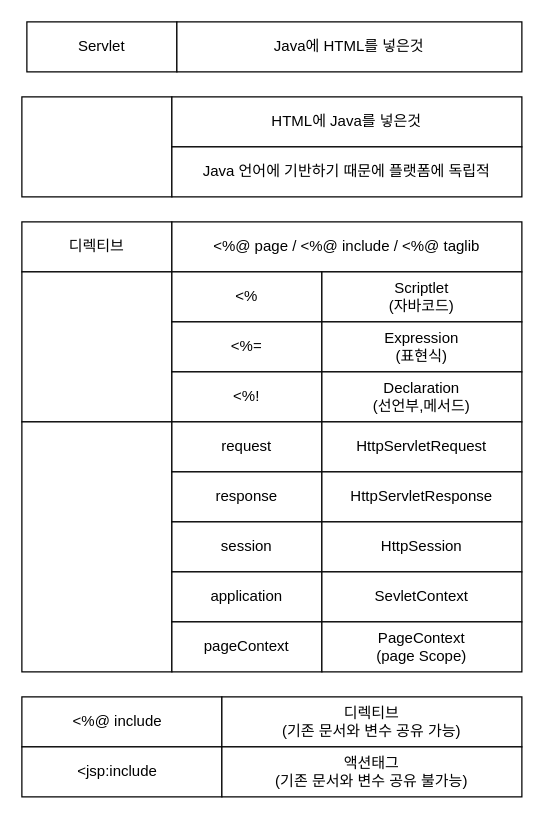
The diagram is 544 pixels wide and 819 high, and some of its shapes have lost their labels. The centre of each missing label's shape, as x and y in pixels:
"JSP (Java Server Page)" belongs at [96,146].
"기본객체 (implicit object)" belongs at [96,546].
"스크립트" belongs at [96,346].
